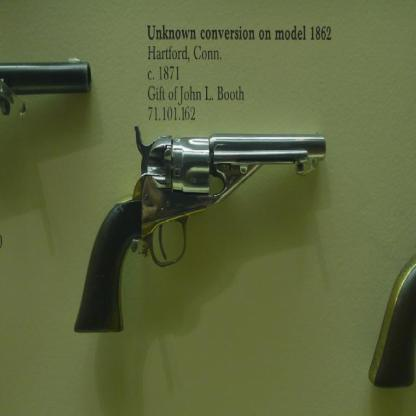weapon: (72, 124, 328, 336)
